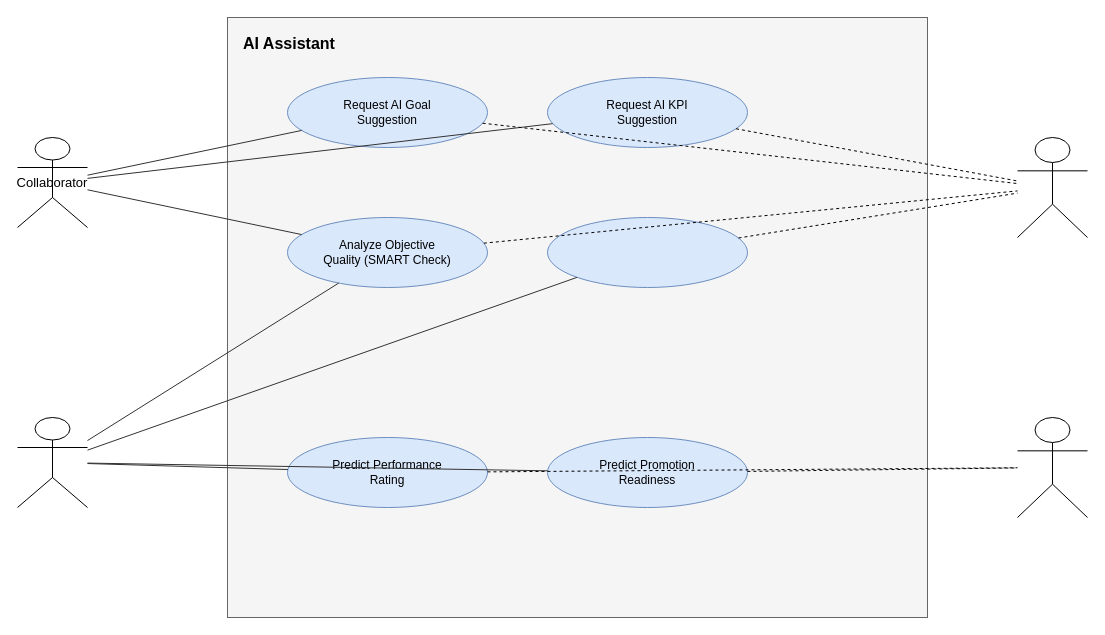
The diagram is 1105 pixels wide and 635 high, and some of its shapes have lost their labels. Each missing label, with the centre of its shape:
AI Provider (Grok / OpenAI / Gemini): point 1052,187
ML Prediction Service (Flask): point 1052,467
Request AI Review Draft: point 647,252
Team Leader: point 52,462
